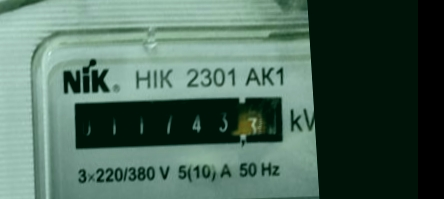0: (78, 111, 94, 138)
1: (105, 109, 121, 138), (133, 108, 148, 137)
3: (214, 107, 230, 135), (244, 115, 260, 137)
4: (189, 110, 204, 136)
7: (160, 110, 176, 135)
screen: (65, 84, 294, 162)
